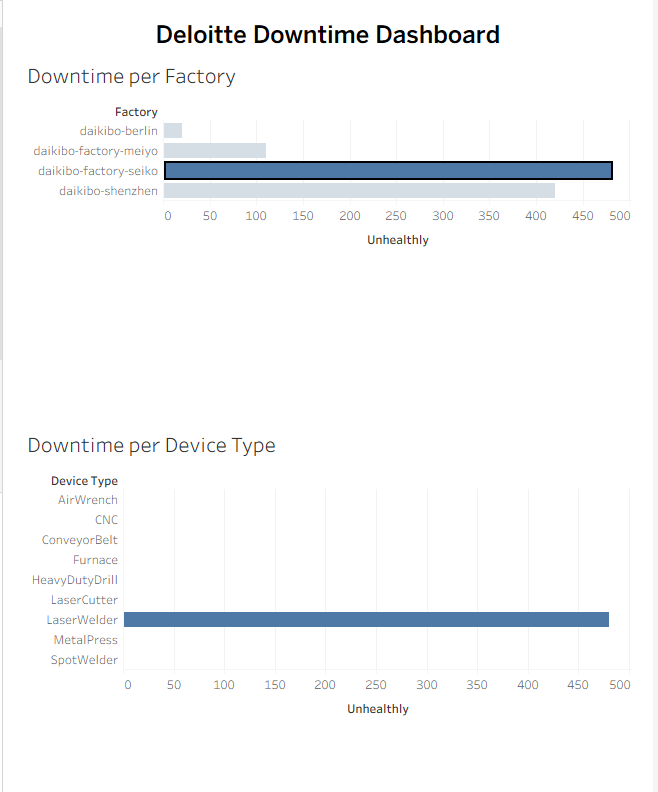

This screenshot's page, from the dashboard's own definition file:
{"tool":"tableau","page":{"name":"Dashboard 1","canvas":[650,860],"ordinal":0},"visuals":[{"type":"title","box":[16,17,618,39.4]},{"type":"worksheet","title":"Downtime per Factory","mark":"Automatic","rows":["factory"],"cols":["Calculation_1218568239194112"],"box":[16,56.5,618,393.2]},{"type":"worksheet","title":"Downtime per Device Type","mark":"Automatic","rows":["deviceType"],"cols":["Calculation_1218568239194112"],"box":[16,449.7,618,393.2]}]}

Visuals, with their boxes on the page's 650x860 design canvas (x1, y1, x2, y2). These are canvas units, not pixel positions in the 658x792 screenshot, which may show the page scaled, cropped or inside an application window:
title: [16, 17, 634, 56]
"Downtime per Factory" worksheet: [16, 56, 634, 450]
"Downtime per Device Type" worksheet: [16, 450, 634, 843]
